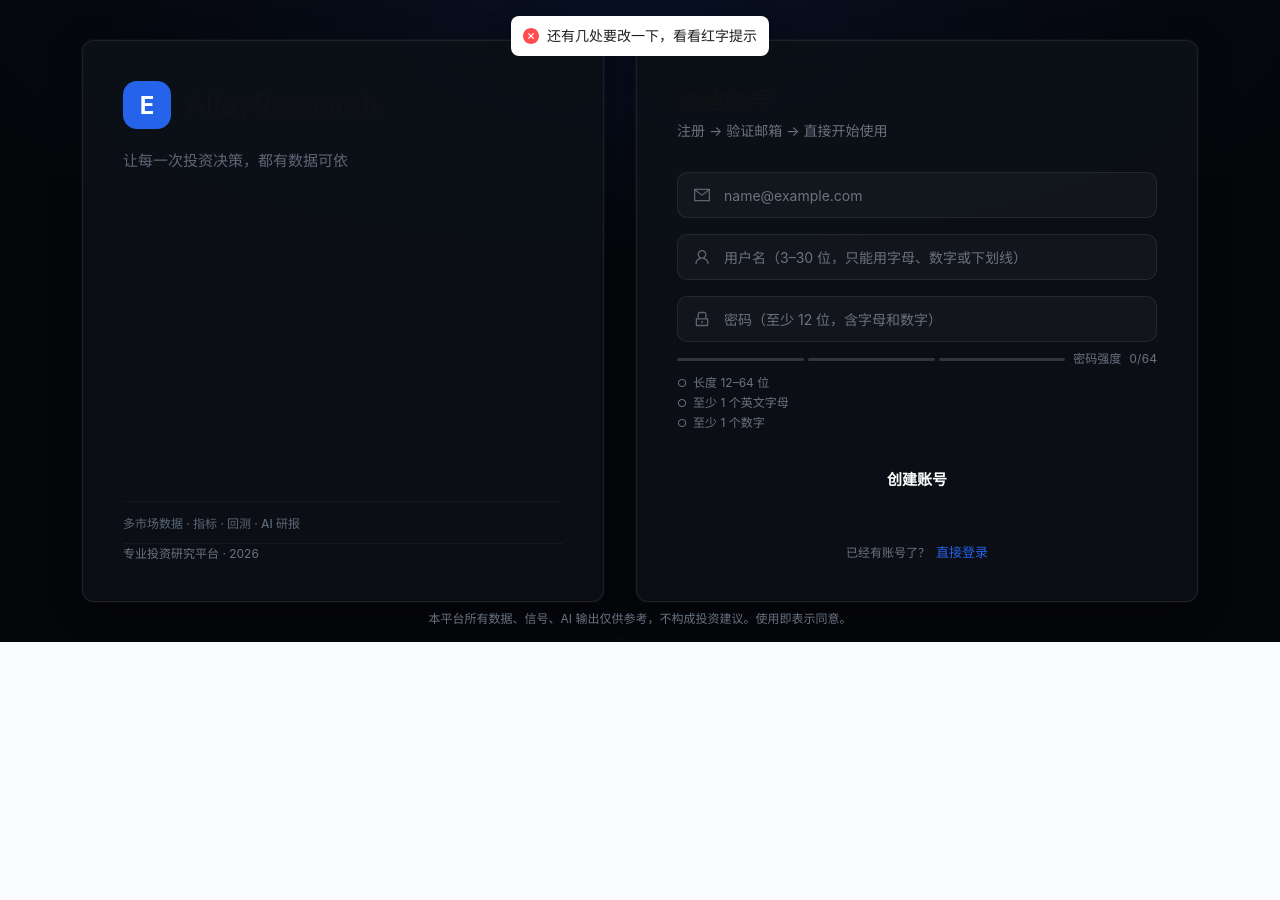
Scenario: 注册表单校验与提交流程 › 服务端 400 用户名占用时，把错误落回用户名字段（防抖查重漏网的兜底）
This screenshot has width=1280, height=900.
Type "aidan@example.com" into the field named "邮箱" at (931, 195), box [722, 172, 1140, 218]
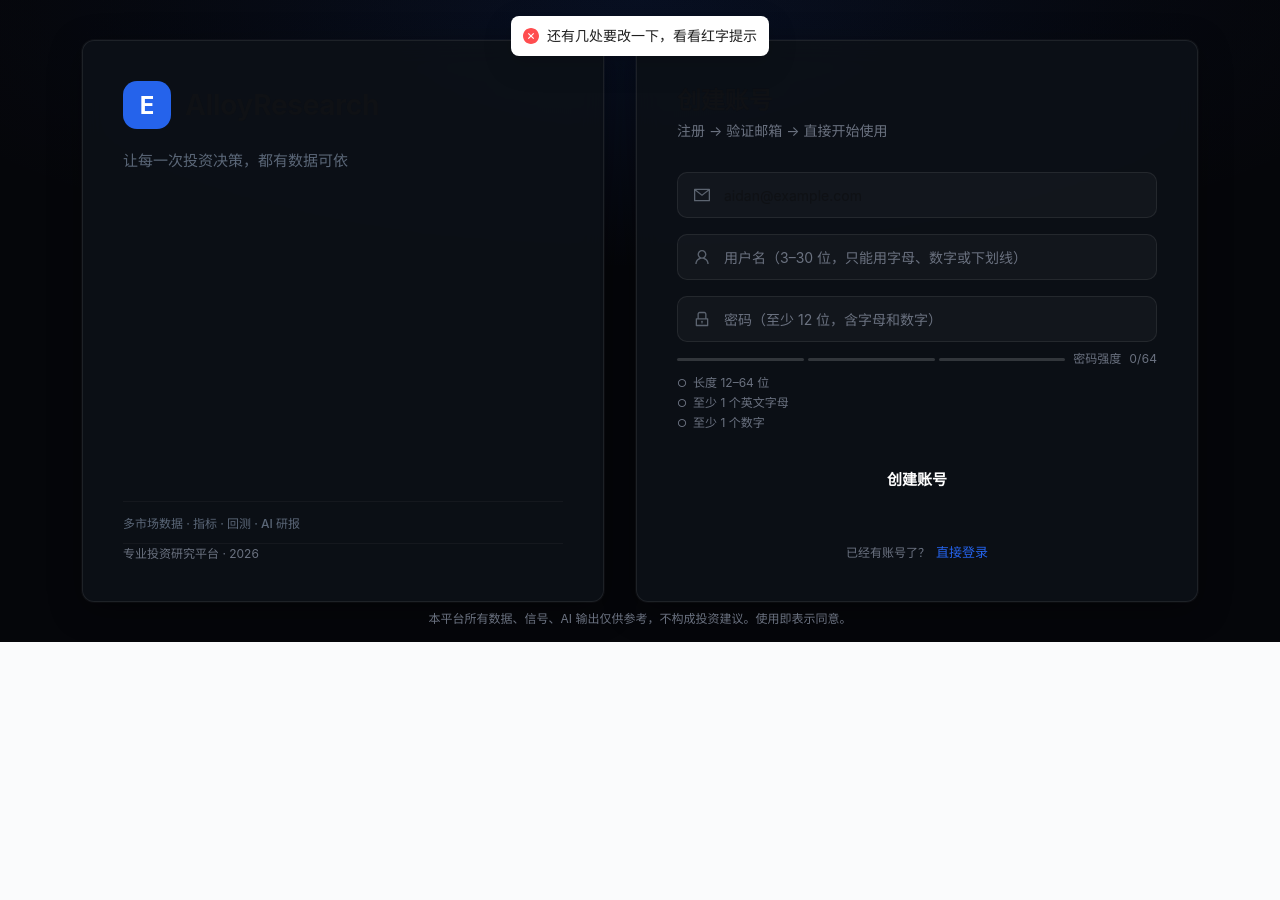
Type "aidan" into the field labelled "用户名" at (931, 257), box [722, 234, 1140, 280]
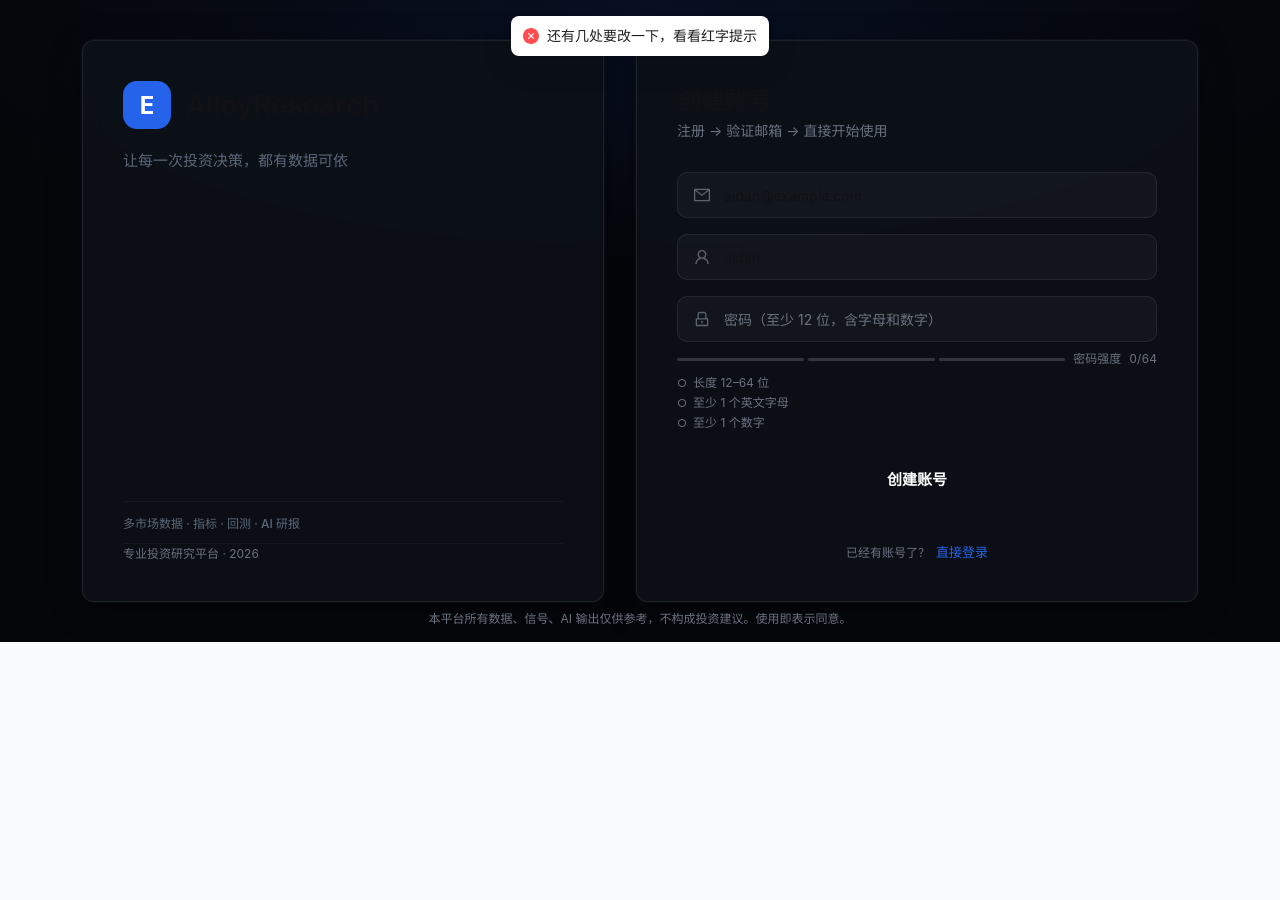
Type "abcd1234efgh" into the password field labelled "密码" at (931, 319), box [722, 296, 1140, 342]
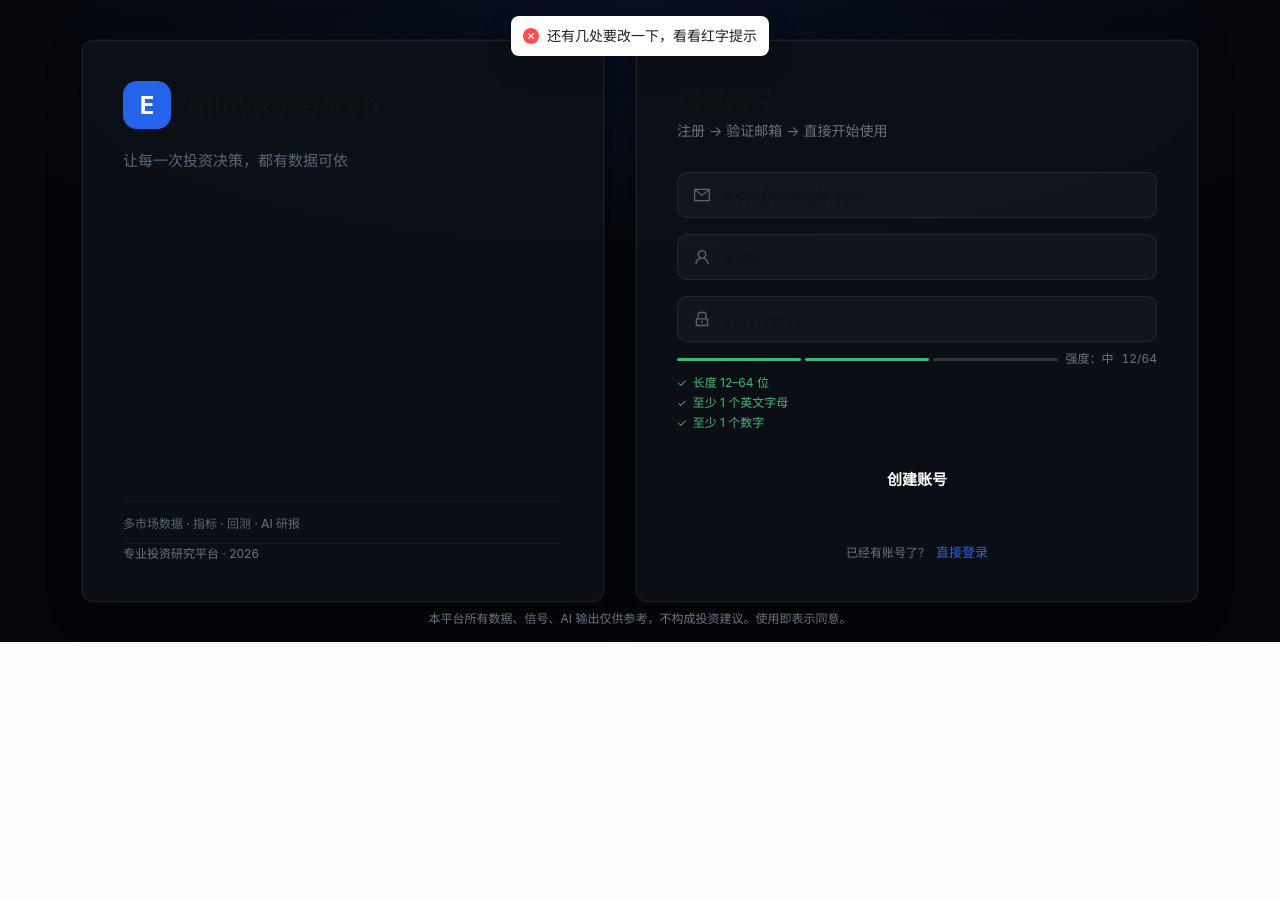
Click the button "创建账号" at (917, 478), box [677, 456, 1157, 500]
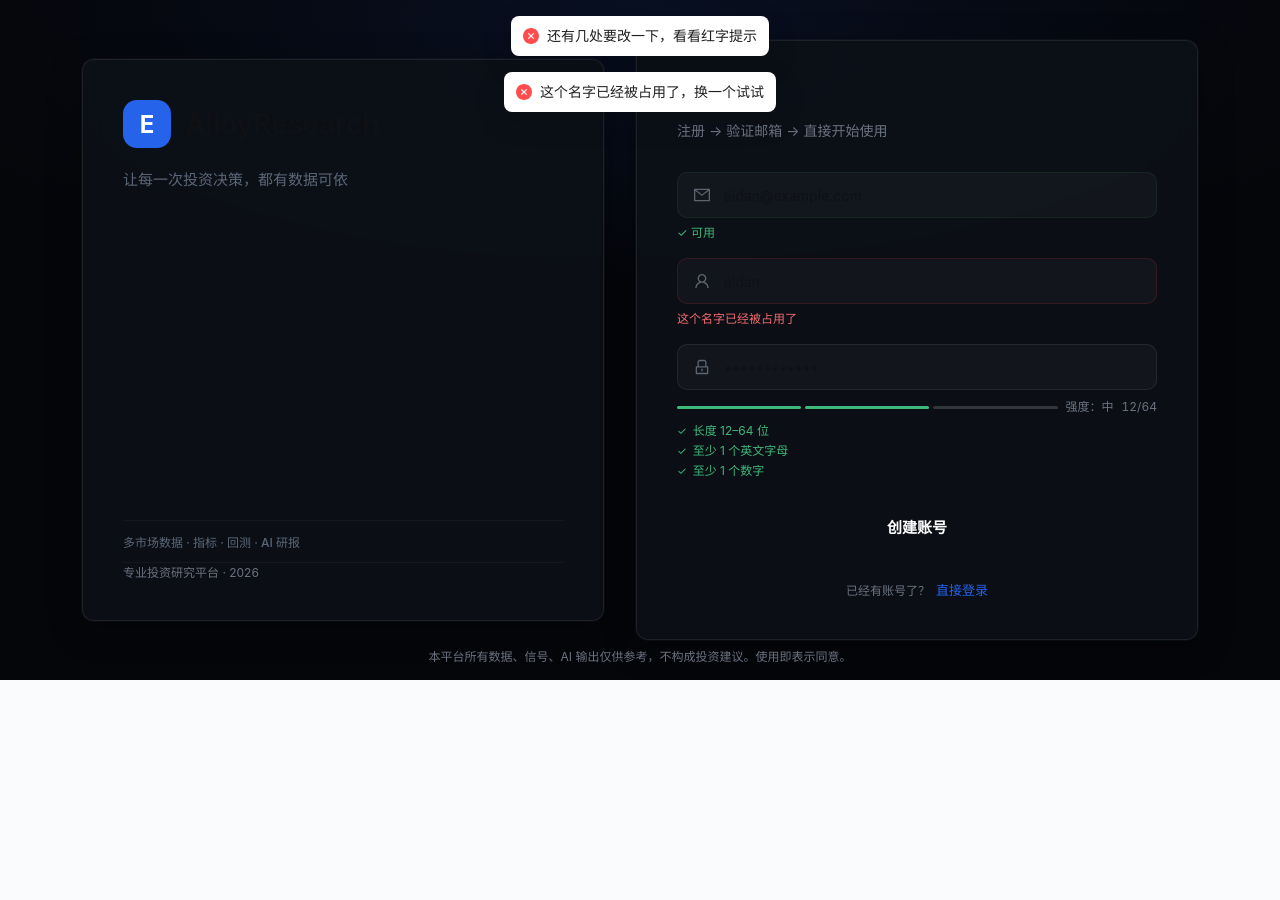
Check: the text "这个名字已经被占用了" is shown, box [677, 311, 797, 326]
